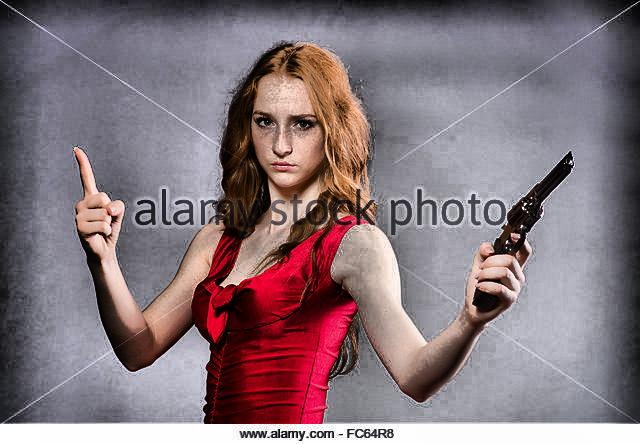pistol: (464, 142, 576, 314)
